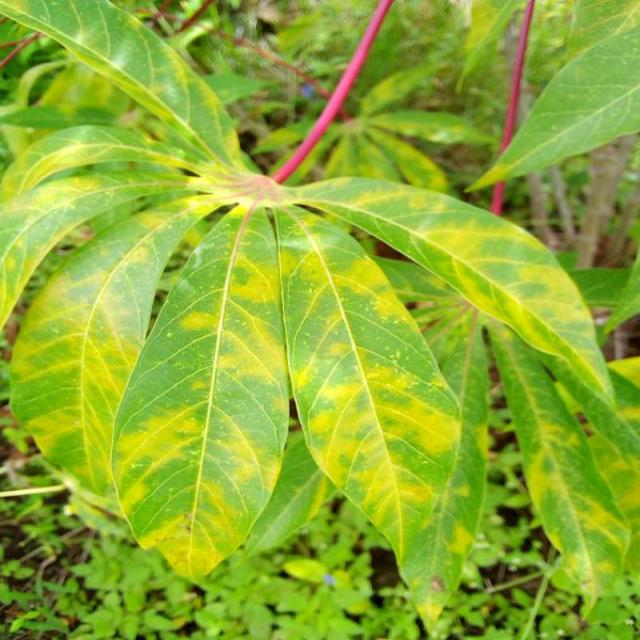cassava leaf: (0, 1, 638, 626), (109, 202, 290, 584)
